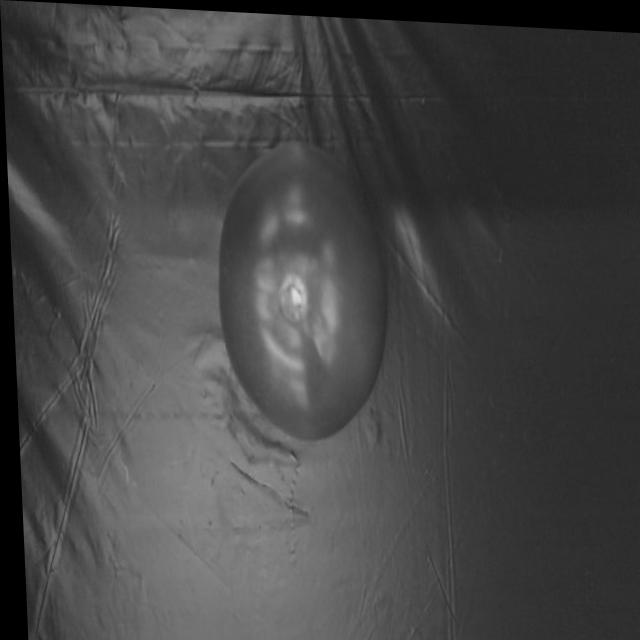kirmizi: (217, 134, 393, 452)
